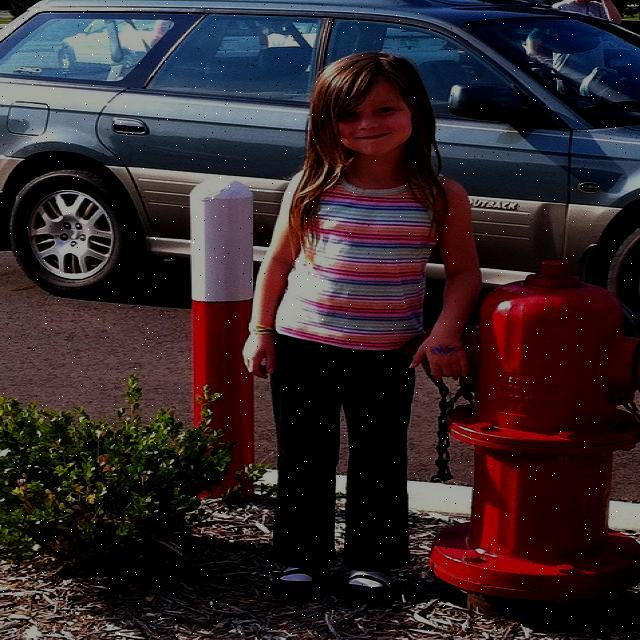fire_hydrant: (404, 258, 640, 621)
